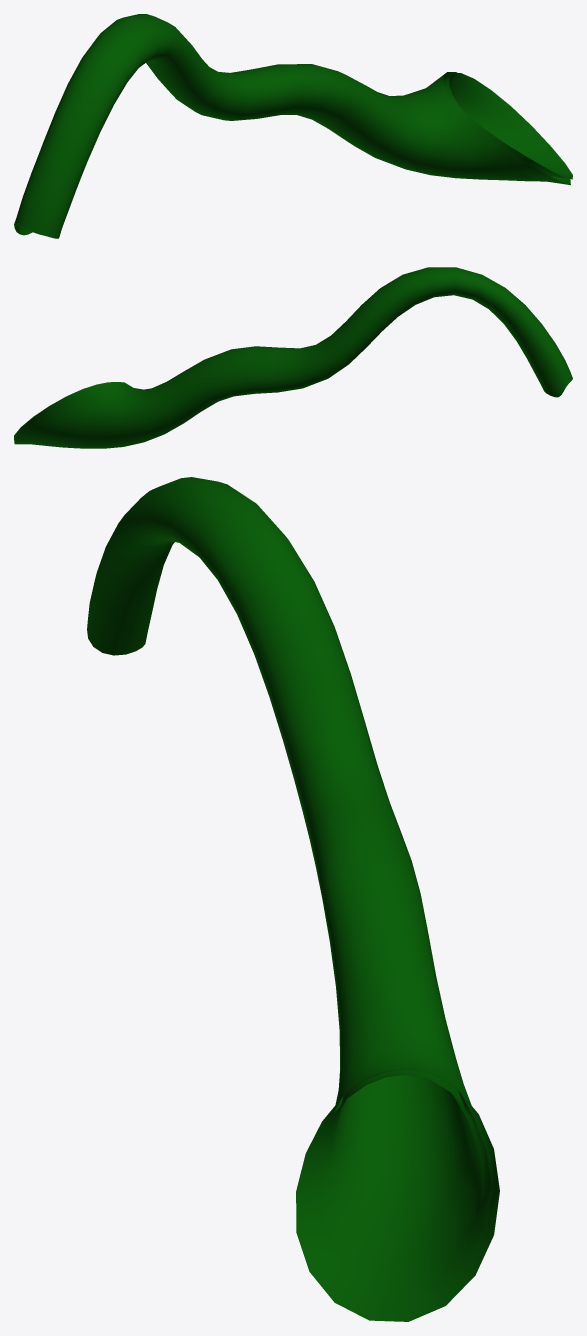
Rendered from VH_M_Ducts_of_Gallbladder.fbx.
The picture shows the model from 3 angles, top to bottom: view 1: azimuth 30°, elevation 25°; view 2: azimuth 150°, elevation 25°; view 3: azimuth 270°, elevation 25°; orthographic projection. The views are drawn at different scales.
Parts seen in each view (by area): view 1: VH_M_cystic_duct; view 2: VH_M_cystic_duct; view 3: VH_M_cystic_duct.
Boxes of the visible parts, x1,y1,x2,y2 form: VH_M_cystic_duct: (14,14,572,238); VH_M_cystic_duct: (14,267,572,448); VH_M_cystic_duct: (87,477,499,1321).
Bounding box in the file's own units: 1.86 × 0.8661 × 0.6951.
